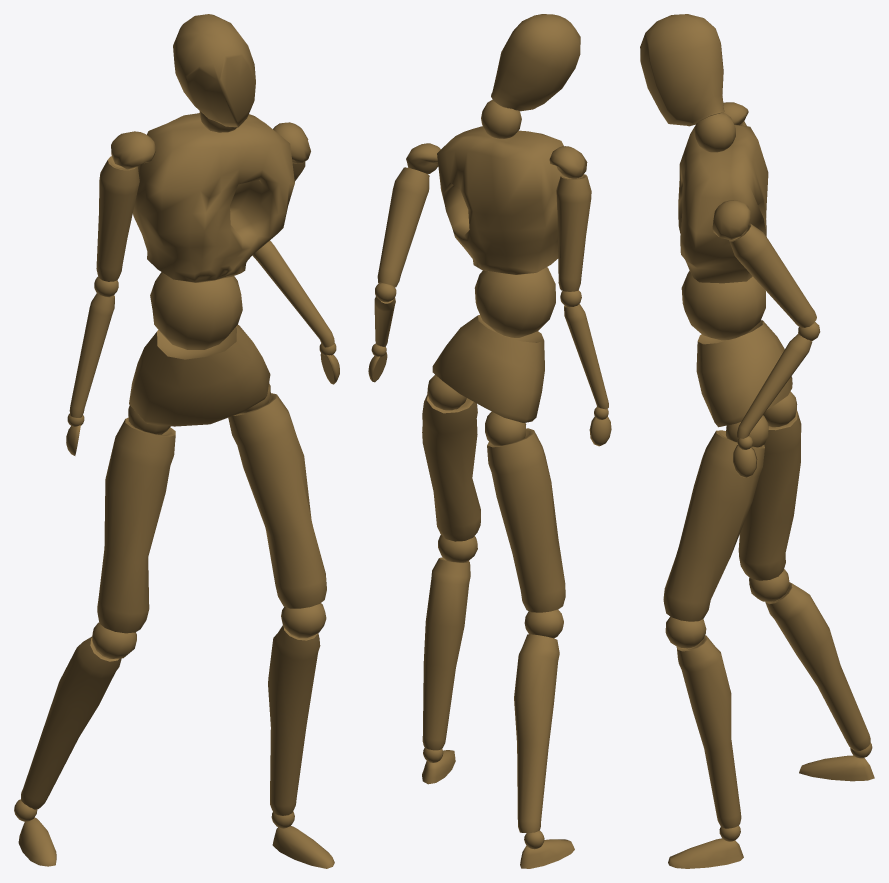
File: maniqui_pose18.fbx
3 views of the same model, side by side, from view 1: azimuth 30°, elevation 25°; view 2: azimuth 150°, elevation 25°; view 3: azimuth 270°, elevation 25° (orthographic). The views are drawn at different scales.
Parts seen in each view (by area): view 1: dummy_obj.016; view 2: dummy_obj.016; view 3: dummy_obj.016.
Boxes of the visible parts, left/top/right/bottom form: dummy_obj.016: left=14, top=14, right=339, bottom=868; dummy_obj.016: left=368, top=14, right=611, bottom=868; dummy_obj.016: left=640, top=14, right=874, bottom=868.
Bounding box in the file's own units: 55.42 × 170 × 45.38.
